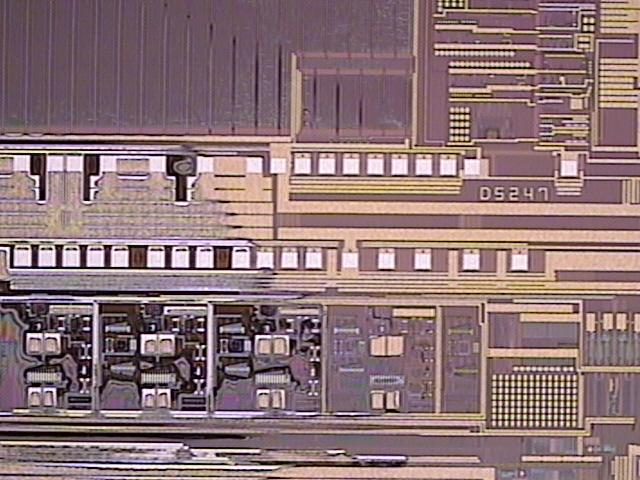COATING BAD: (1, 128, 446, 480)
